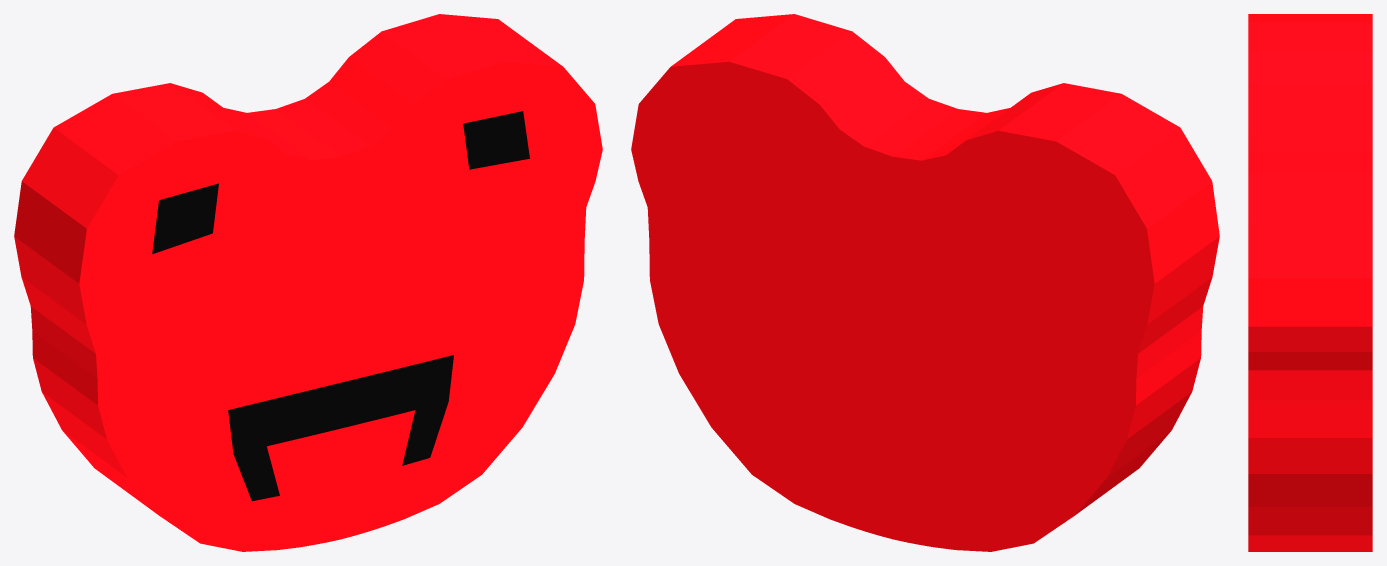
File: redFrogButton.gltf
3 renders of one model, left to right at view 1: azimuth 30°, elevation 25°; view 2: azimuth 150°, elevation 25°; view 3: azimuth 270°, elevation 25°, orthographic. The views are drawn at different scales.
Parts seen in each view (by area): view 1: RedFrogButton; view 2: RedFrogButton; view 3: RedFrogButton.
Part boxes in pixels (<box>): RedFrogButton: <box>14,14,602,551</box>; RedFrogButton: <box>631,14,1219,551</box>; RedFrogButton: <box>1248,14,1372,551</box>.
Size of what is drawn, in the model's own units: 1.92 by 1.54 by 0.4152.
